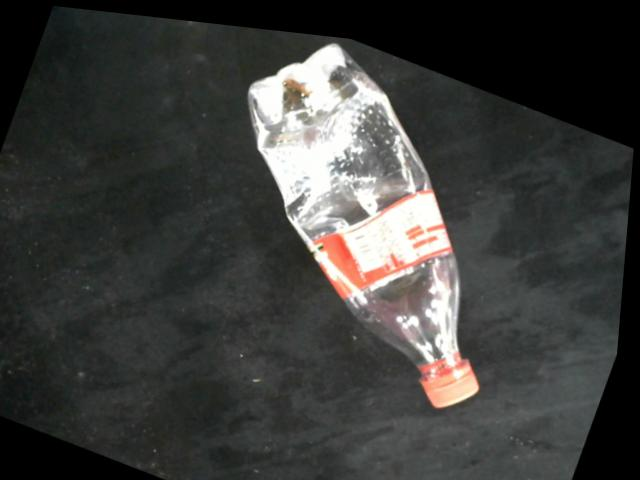bottle: (248, 34, 486, 397)
